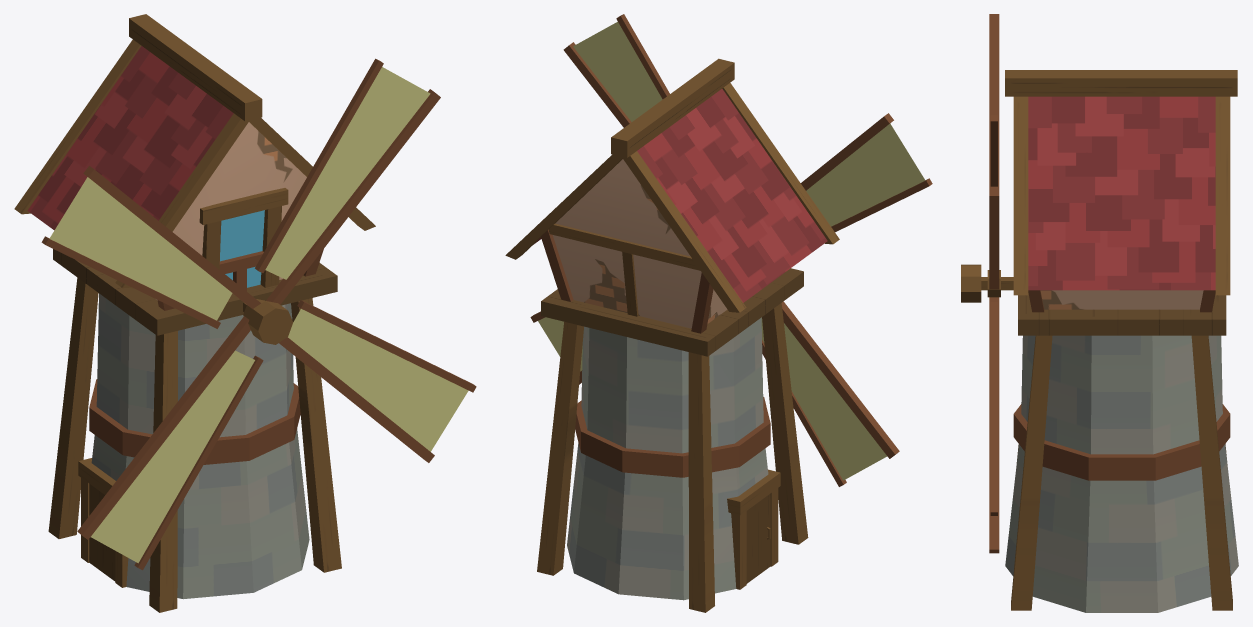
Rendered from Windmill 01.fbx.
3 views of the same model, side by side, from view 1: azimuth 30°, elevation 25°; view 2: azimuth 150°, elevation 25°; view 3: azimuth 270°, elevation 25° (orthographic). The views are drawn at different scales.
Visible parts, largest first — view 1: Windmill_01, Blades, Door; view 2: Windmill_01, Blades, Door; view 3: Windmill_01, Blades.
Boxes of the visible parts, bbox=[...] form: Windmill_01: bbox=[14, 14, 375, 612]; Blades: bbox=[41, 58, 476, 570]; Door: bbox=[89, 484, 115, 581]; Windmill_01: bbox=[505, 58, 839, 612]; Blades: bbox=[530, 14, 932, 486]; Door: bbox=[746, 493, 770, 583]; Windmill_01: bbox=[961, 70, 1238, 612]; Blades: bbox=[987, 14, 1000, 553].
Size of the model in its own units: 1242 by 1398 by 693.
